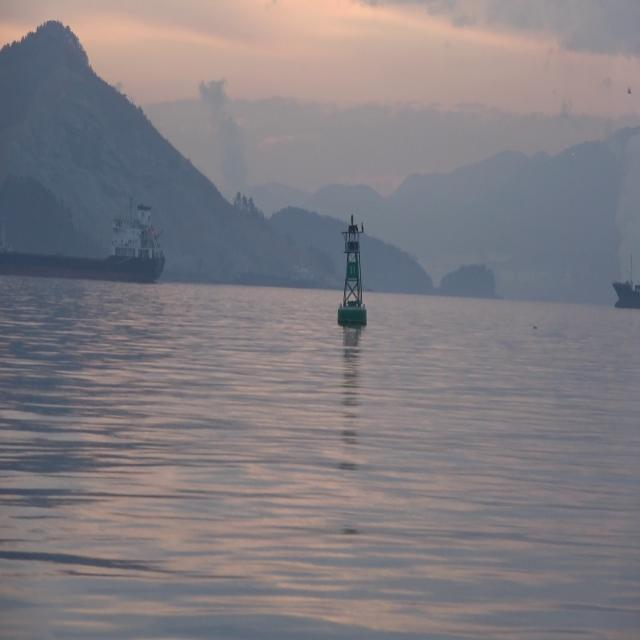ship: (0, 199, 165, 284)
